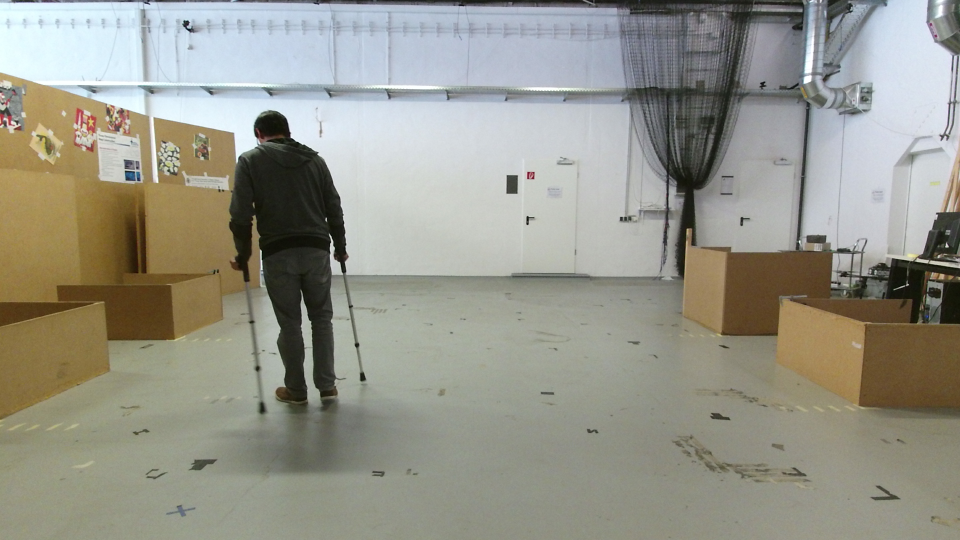crutches: (226, 99, 376, 434)
